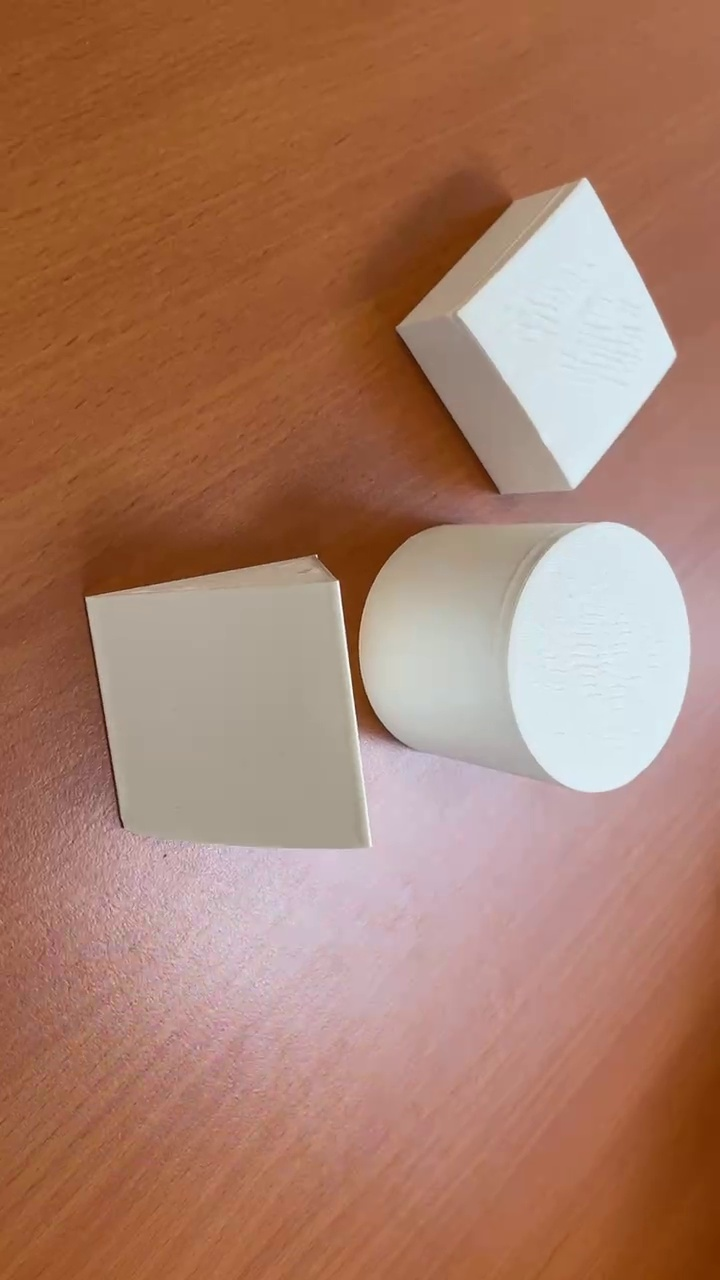Cube_short: (393, 175, 679, 496)
Cylinder: (356, 516, 691, 796)
Triangle: (85, 546, 374, 852)
